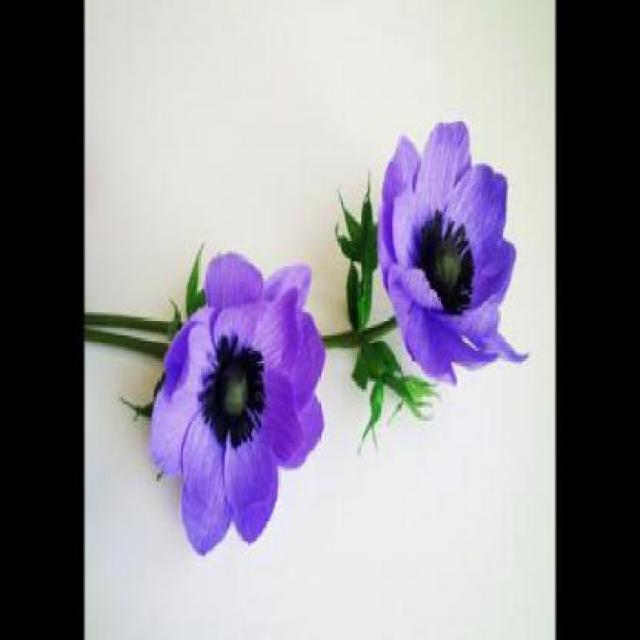Flower: (151, 253, 326, 556), (378, 121, 530, 384), (199, 333, 267, 445), (418, 210, 476, 315)
